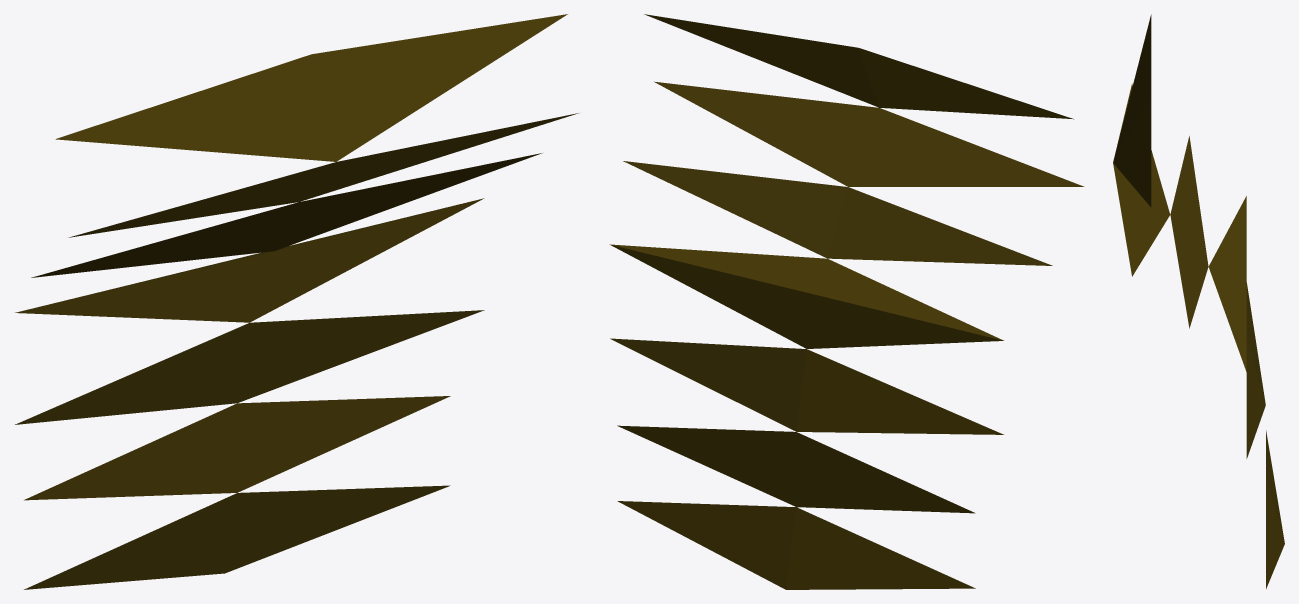
Rendered from model_482_npc.obj.
3 views of the same model, side by side, from view 1: azimuth 30°, elevation 25°; view 2: azimuth 150°, elevation 25°; view 3: azimuth 270°, elevation 25° (orthographic). The views are drawn at different scales.
Visible parts, largest first — view 1: 482; view 2: 482; view 3: 482.
Part boxes in pixels (x1,y1,x2,y2): 482: [15, 14, 578, 589]; 482: [609, 14, 1084, 589]; 482: [1113, 14, 1284, 588].
Bounding box in the file's own units: 24 × 26 × 9.
